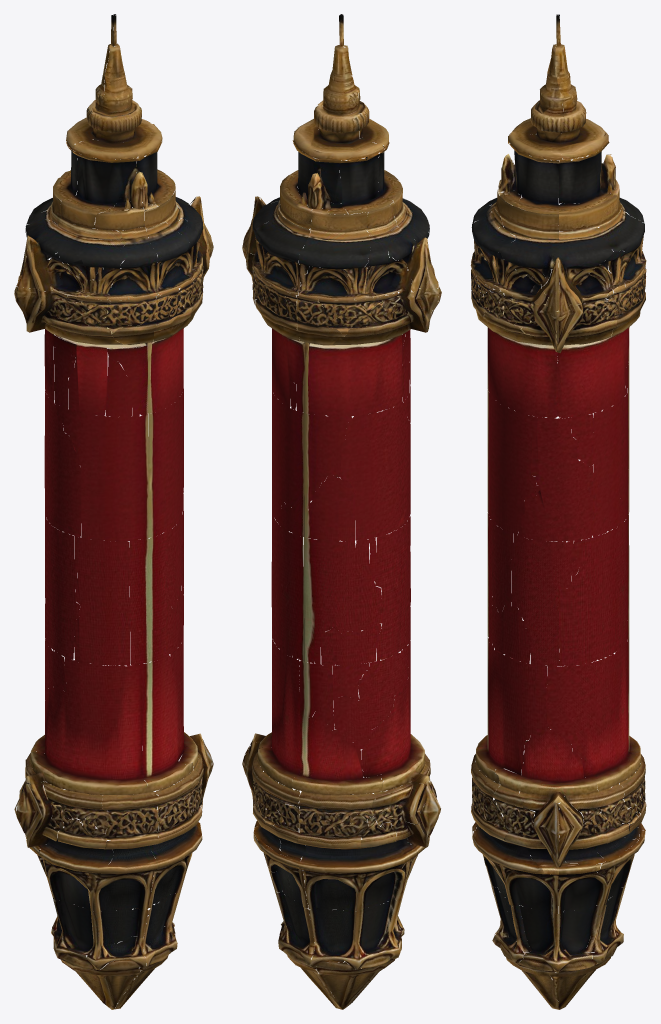
Rendered from w_sera_reagent.glb.
3 renders of one model, left to right at view 1: azimuth 30°, elevation 25°; view 2: azimuth 150°, elevation 25°; view 3: azimuth 270°, elevation 25°, orthographic.
Parts seen in each view (by area): view 1: tripo_node_ee86c3b6-2585-4349-b80b-7f96d1102b01; view 2: tripo_node_ee86c3b6-2585-4349-b80b-7f96d1102b01; view 3: tripo_node_ee86c3b6-2585-4349-b80b-7f96d1102b01.
Part boxes in pixels (x1,y1,x2,y2): tripo_node_ee86c3b6-2585-4349-b80b-7f96d1102b01: [14, 14, 213, 1009]; tripo_node_ee86c3b6-2585-4349-b80b-7f96d1102b01: [242, 14, 441, 1009]; tripo_node_ee86c3b6-2585-4349-b80b-7f96d1102b01: [470, 14, 646, 1009].
Bounding box in the file's own units: 0.2034 × 0.984 × 0.158.
1 material, 1 textured.
